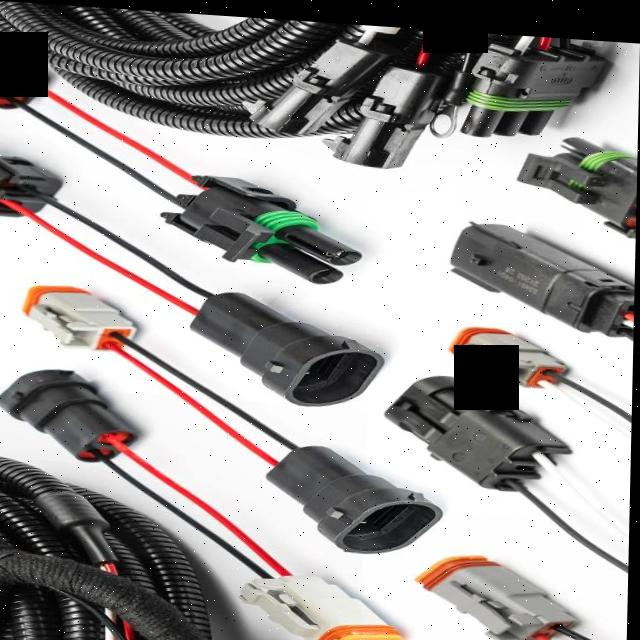connector: (192, 289, 385, 401), (162, 172, 362, 279), (387, 369, 573, 482), (452, 216, 635, 328), (269, 441, 444, 548), (462, 29, 608, 129), (252, 34, 394, 130), (420, 550, 580, 634), (0, 369, 140, 460), (517, 129, 636, 227), (335, 59, 448, 162), (243, 571, 406, 640), (450, 321, 569, 380), (25, 286, 137, 348), (0, 155, 63, 211), (0, 46, 49, 108), (0, 202, 20, 215)
